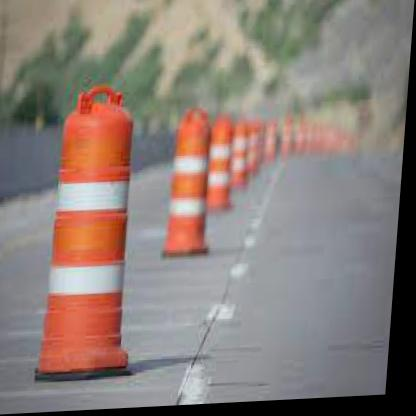obstacle: (37, 93, 151, 384), (170, 107, 220, 260)
